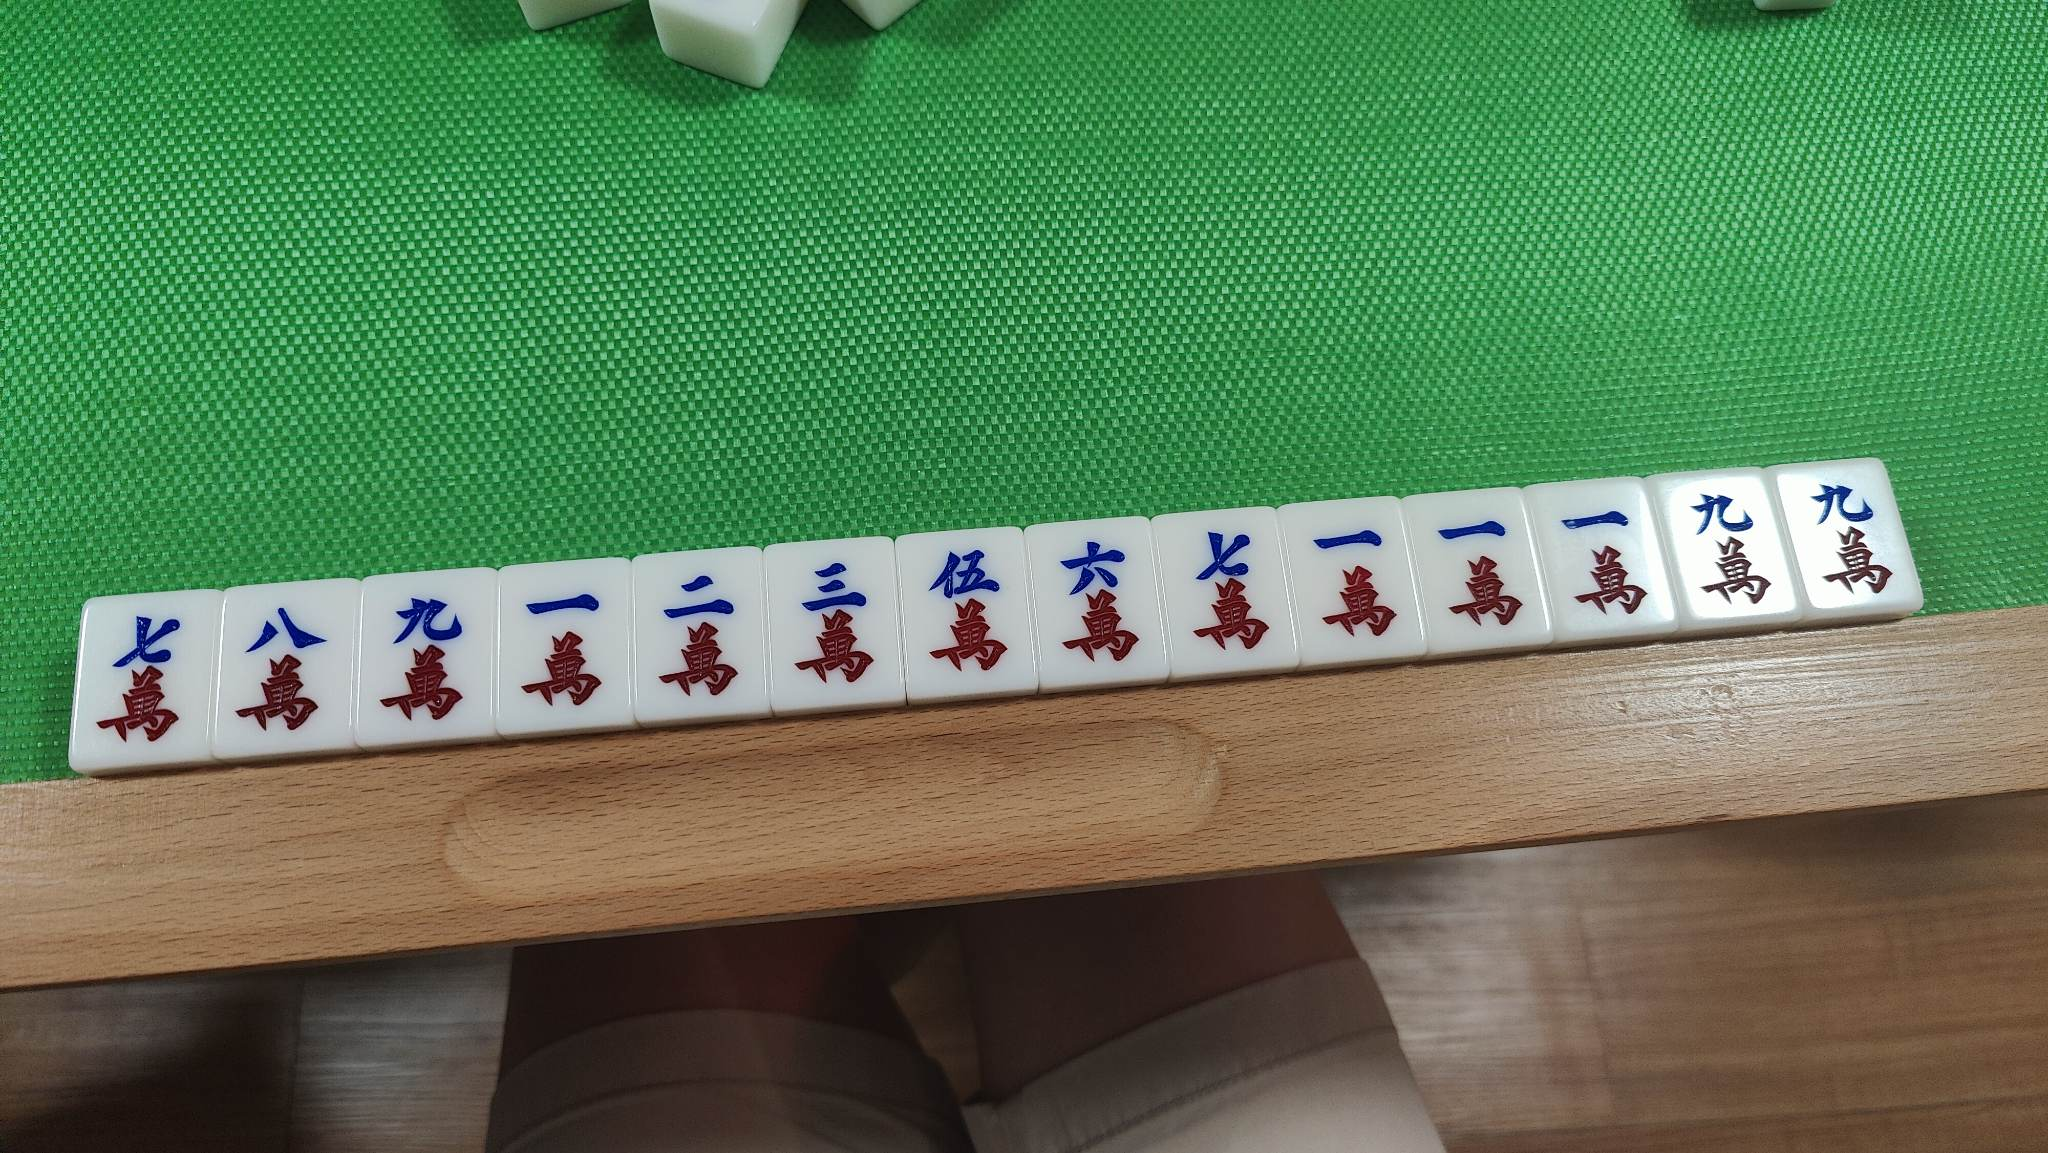character-eight: (229, 599, 338, 738)
character-five: (917, 544, 1014, 678)
character-nine: (369, 592, 478, 723), (1800, 475, 1900, 602), (1684, 488, 1779, 610)
character-one: (508, 586, 616, 713), (1305, 520, 1401, 643), (1551, 502, 1651, 614), (1429, 515, 1523, 631)
character-seven: (91, 606, 191, 751), (1180, 520, 1274, 657)
character-six: (1044, 532, 1142, 668)
character-three: (783, 560, 881, 692)
character-two: (643, 568, 745, 702)
